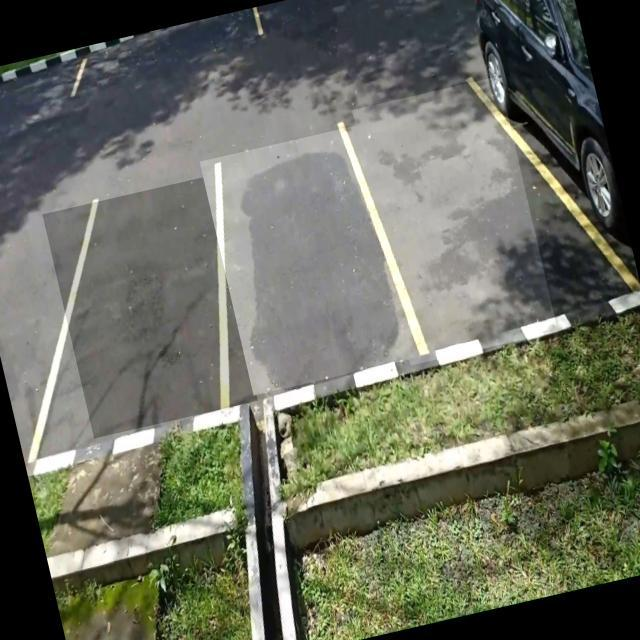empty: (352, 76, 558, 365), (199, 125, 410, 395), (42, 176, 258, 438)
